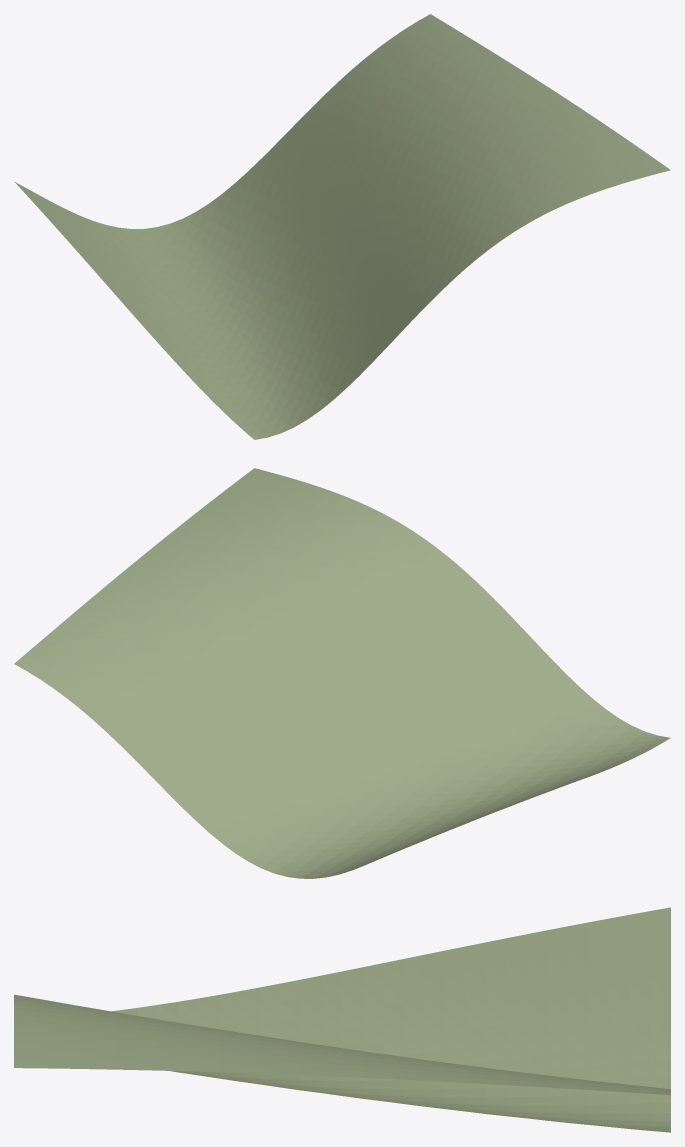
The model's file is expanse-14-12.glb.
The picture shows the model from 3 angles, top to bottom: view 1: azimuth 30°, elevation 25°; view 2: azimuth 150°, elevation 25°; view 3: azimuth 270°, elevation 25°; orthographic projection. The views are drawn at different scales.
Visible parts, largest first — view 1: expanse-14-12; view 2: expanse-14-12; view 3: expanse-14-12.
Part boxes in pixels (left/top/right/bottom): expanse-14-12: left=15, top=14, right=670, bottom=439; expanse-14-12: left=14, top=468, right=670, bottom=878; expanse-14-12: left=14, top=907, right=670, bottom=1132.
Bounding box in the file's own units: 256 × 99.27 × 256.
